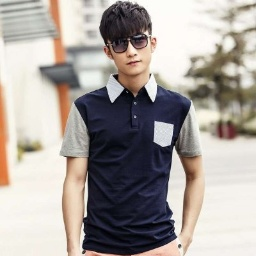face: (98, 1, 155, 76)
